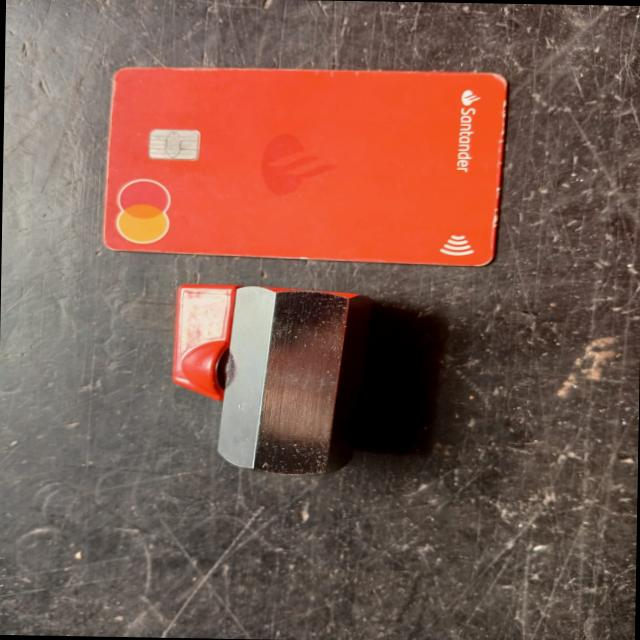cartao: (103, 65, 506, 266)
rosca_interna: (170, 282, 372, 475)
